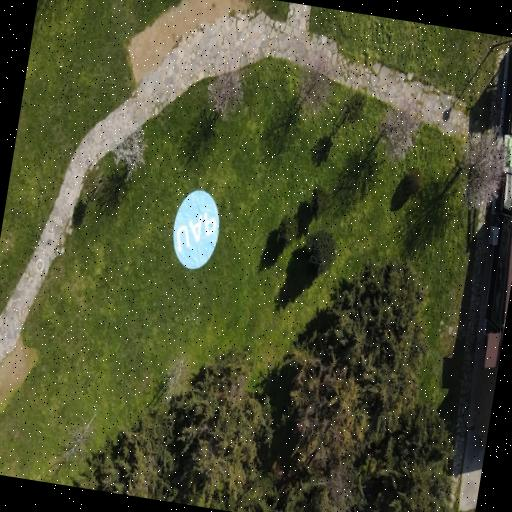UAP: (173, 190, 218, 269)
